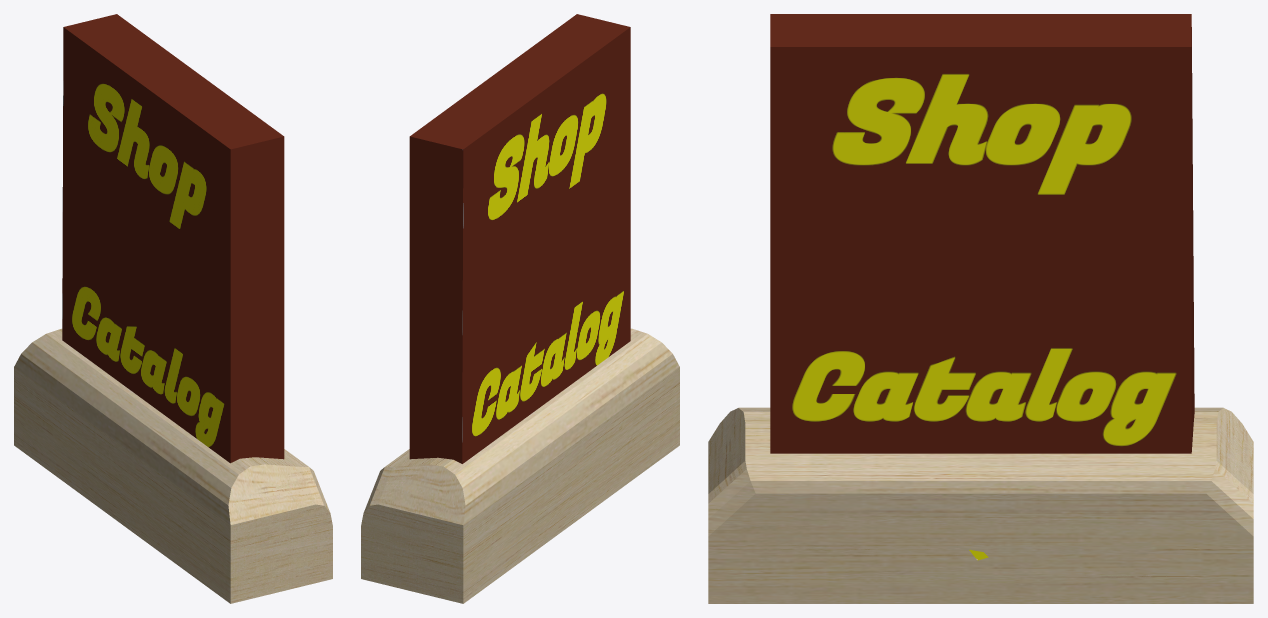
Rendered from shop_catalog.obj.
3 views of the same model, side by side, from view 1: azimuth 30°, elevation 25°; view 2: azimuth 150°, elevation 25°; view 3: azimuth 270°, elevation 25° (orthographic). The views are drawn at different scales.
Visible parts, largest first — view 1: catalog, stand; view 2: catalog, stand; view 3: catalog, stand.
Part boxes in pixels (x1,y1,x2,y2): catalog: (62, 14, 284, 463); stand: (14, 328, 332, 603); catalog: (409, 14, 630, 463); stand: (361, 328, 679, 603); catalog: (770, 14, 1194, 453); stand: (708, 407, 1253, 603).
Size of the model in its own units: 0.06 by 0.2413 by 0.22.
